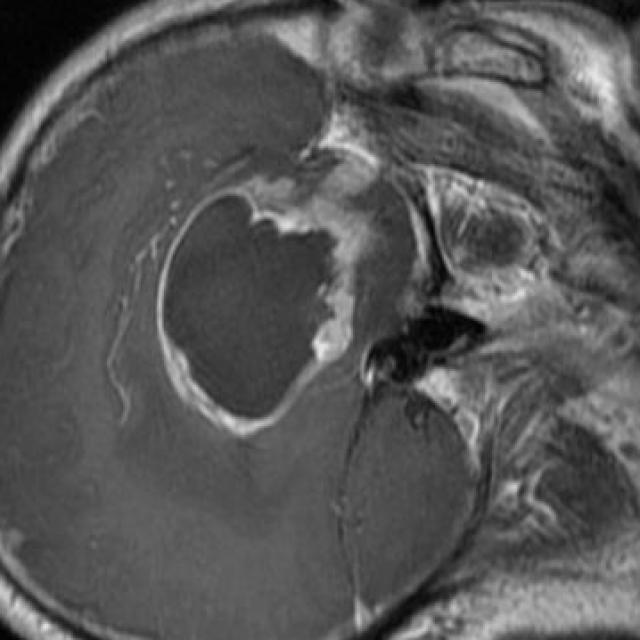glioma: (157, 103, 385, 440)
